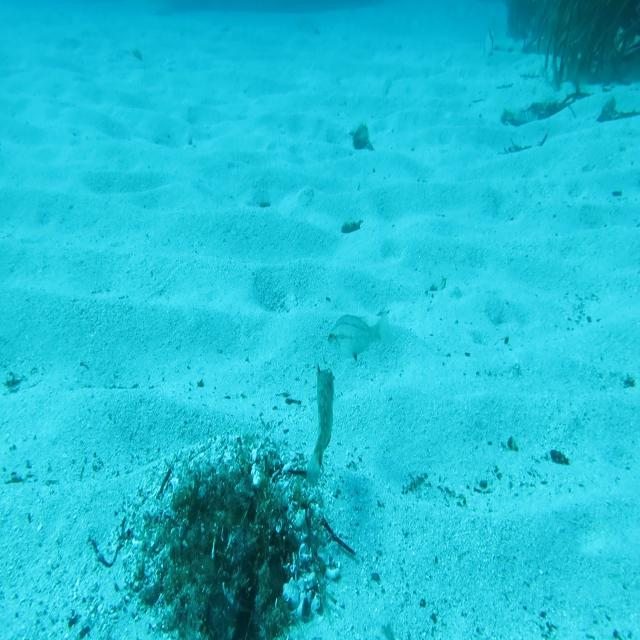MAF: (305, 357, 336, 488)
core_nest: (200, 489, 248, 528)
female: (327, 308, 394, 362)
nest: (113, 423, 350, 640)
vegetation: (341, 214, 365, 236)
